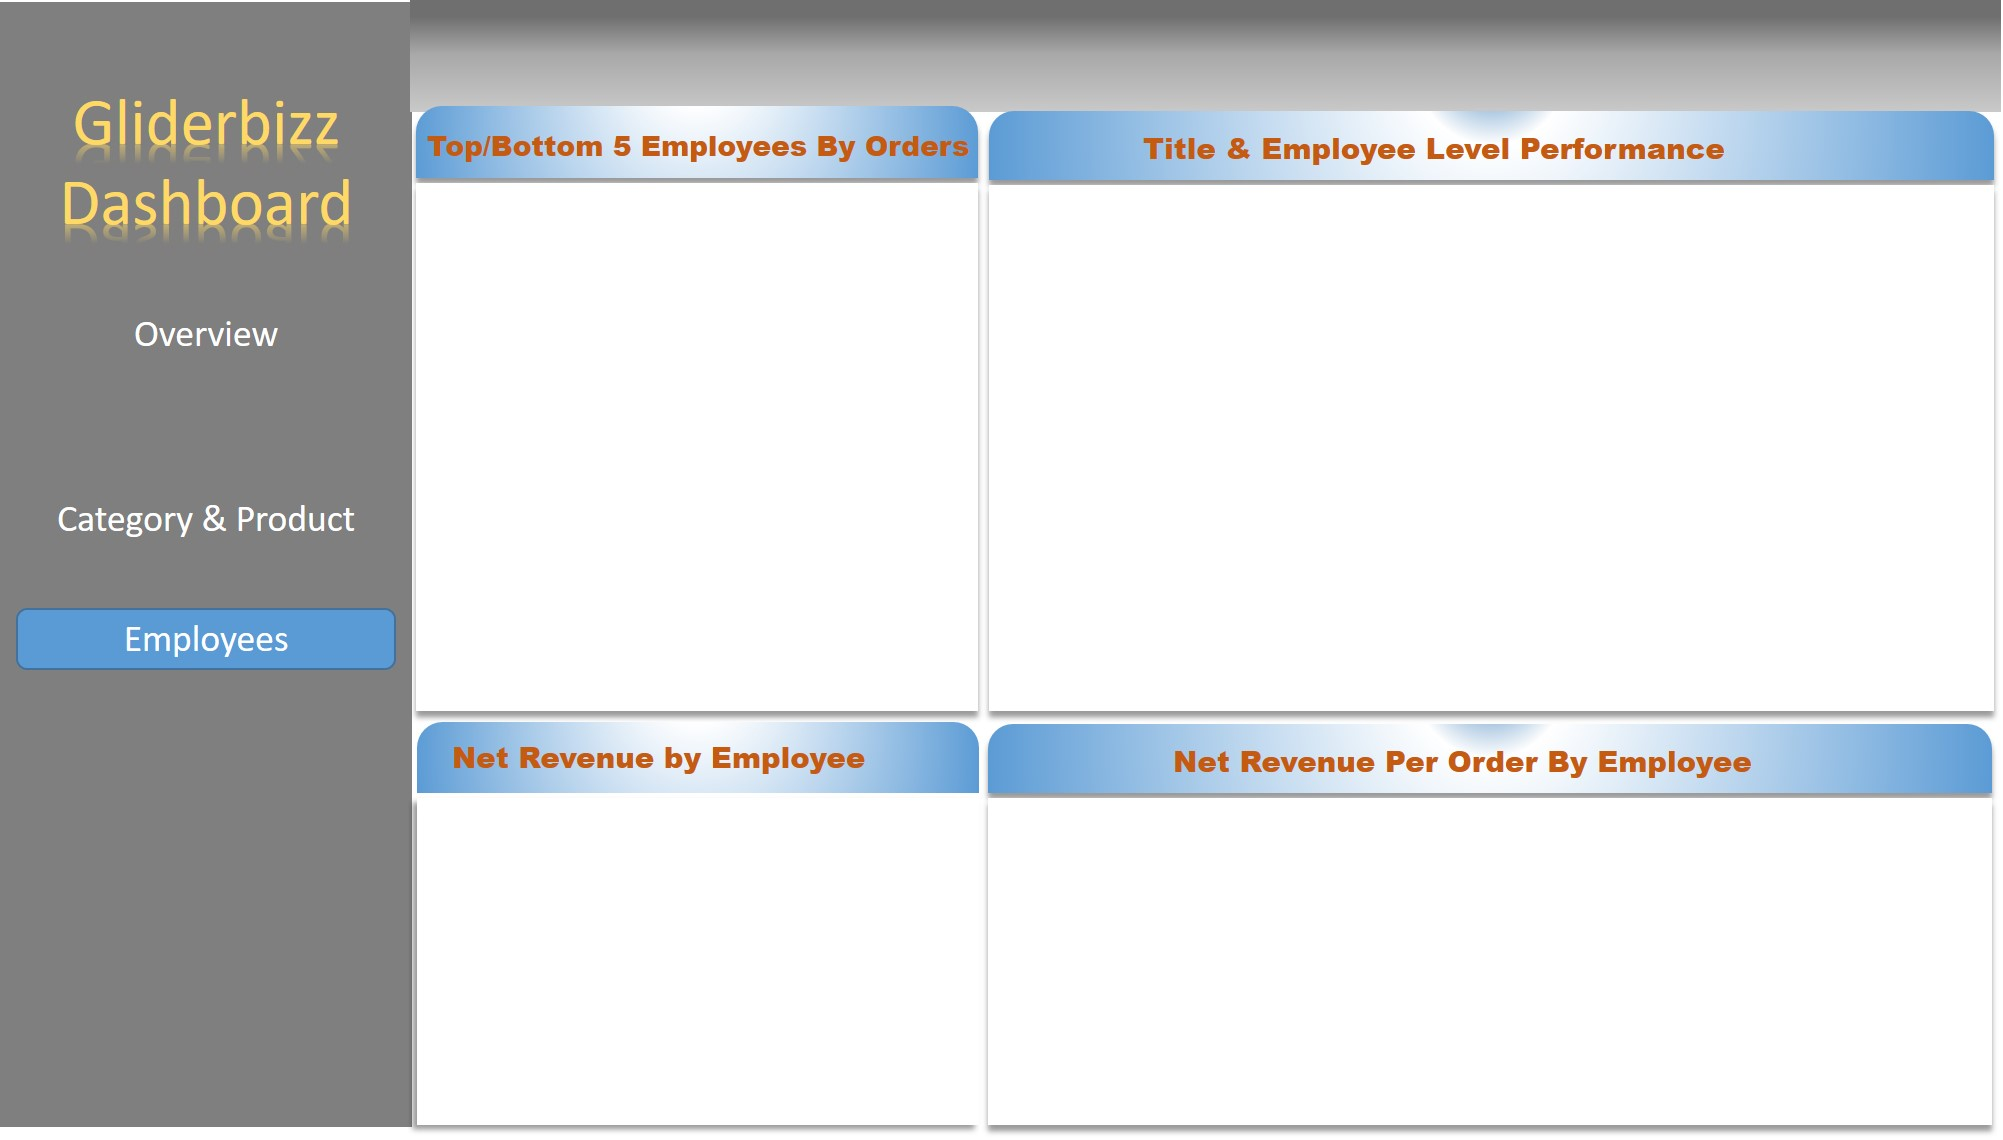

Layout of this report page (visuals, bound fields, positions):
{"tool":"powerbi","page":{"name":"Employees","canvas":[1280,720],"ordinal":2},"visuals":[{"type":"slicer","fields":{"Values":["Product.CategoryName","Product.ProductName"]},"box":[262,10.1,258.7,63.8],"z":0},{"type":"slicer","fields":{"Values":["Order_Details.Country","Order_Details.City"]},"box":[527.6,10.6,258.5,63.7],"z":1000},{"type":"slicer","fields":{"Values":["Order_Details.Title","Order_Details.FirstName"]},"box":[794.9,10.6,258.5,63.7],"z":2000},{"type":"slicer","fields":{"Values":["Order_Details.OrderDate"]},"box":[1056.9,8.9,223.1,65.5],"z":3000},{"type":"clusteredBarChart","fields":{"Category":["Order_Details.FirstName"],"Y":["Order_Details.Orders"]},"box":[271,117.4,355.1,168.1],"z":4000},{"type":"clusteredBarChart","fields":{"Y":["Order_Details.Orders"],"Category":["Order_Details.FirstName"]},"box":[269.6,288.4,356.5,168.1],"z":5000},{"type":"pivotTable","fields":{"Rows":["Order_Details.FirstName","Order_Details.Title"],"Values":["Order_Details.Orders","Order_Details.Quantity","Order_Details.Discount($)","Order_Details.Gross Revenue"]},"box":[664.8,139.7,574.6,291.7],"z":6000},{"type":"clusteredColumnChart","fields":{"Y":["Order_Details.Net Revenue Pr Order"],"Category":["Order_Details.FirstName"]},"box":[634.7,514.5,645.3,205.1],"z":7000},{"type":"waterfallChart","fields":{"Category":["Order_Details.Title"],"Y":["Order_Details.Net Revenue"]},"box":[268.7,514.5,353.6,190.9],"z":8000},{"type":"actionButton","title":"Back","box":[111.7,652.1,39.6,55.2],"z":9000}]}

Visuals, with their boxes on the page's 1280x720 design canvas (x1, y1, x2, y2). These are canvas units, not pixel positions in the 2003x1140 screenshot, which may show the page scaled, cropped or inside an application window:
slicer - Product.CategoryName x Product.ProductName: l=262, t=10, r=521, b=74
slicer - Order_Details.Country x Order_Details.City: l=528, t=11, r=786, b=74
slicer - Order_Details.Title x Order_Details.FirstName: l=795, t=11, r=1053, b=74
slicer - Order_Details.OrderDate: l=1057, t=9, r=1280, b=74
clusteredBarChart - Order_Details.FirstName x Order_Details.Orders: l=271, t=117, r=626, b=286
clusteredBarChart - Order_Details.Orders x Order_Details.FirstName: l=270, t=288, r=626, b=456
pivotTable - Order_Details.FirstName x Order_Details.Title: l=665, t=140, r=1239, b=431
clusteredColumnChart - Order_Details.Net Revenue Pr Order x Order_Details.FirstName: l=635, t=514, r=1280, b=720
waterfallChart - Order_Details.Title x Order_Details.Net Revenue: l=269, t=514, r=622, b=705
"Back" actionButton: l=112, t=652, r=151, b=707
